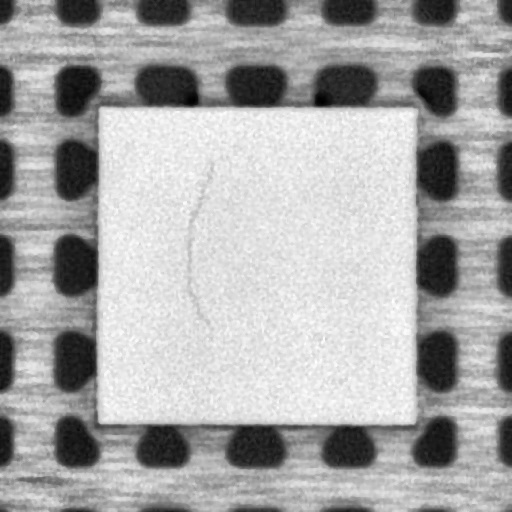DIE_CRACK: (179, 161, 215, 328)
